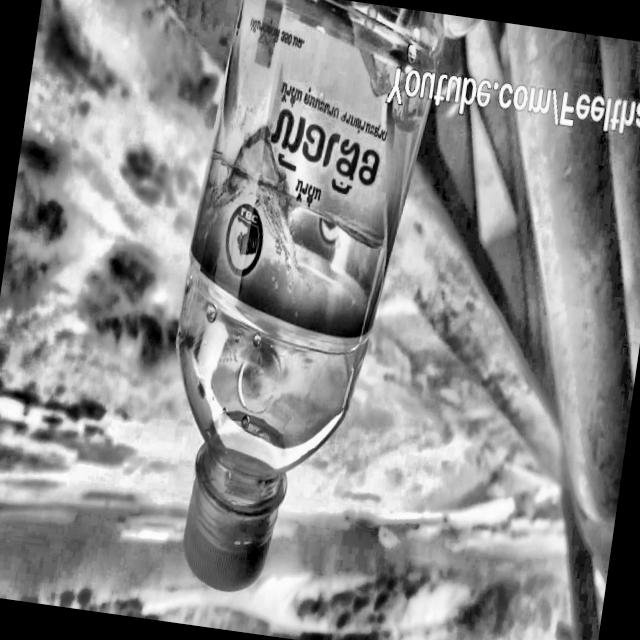waterbottle: (126, 0, 454, 627)
